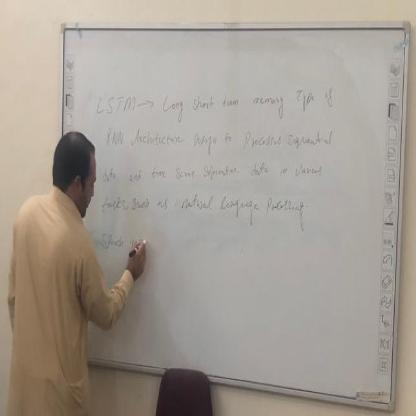Handwritten text: (92, 79, 339, 121), (97, 185, 313, 228), (100, 122, 336, 159), (98, 156, 333, 186), (93, 229, 129, 253)
Lecturer: (8, 129, 124, 393)
Whiteboard: (44, 13, 408, 408)
